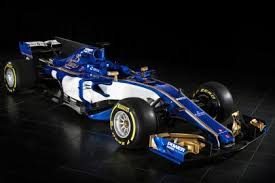f1_car: (2, 32, 275, 172)
